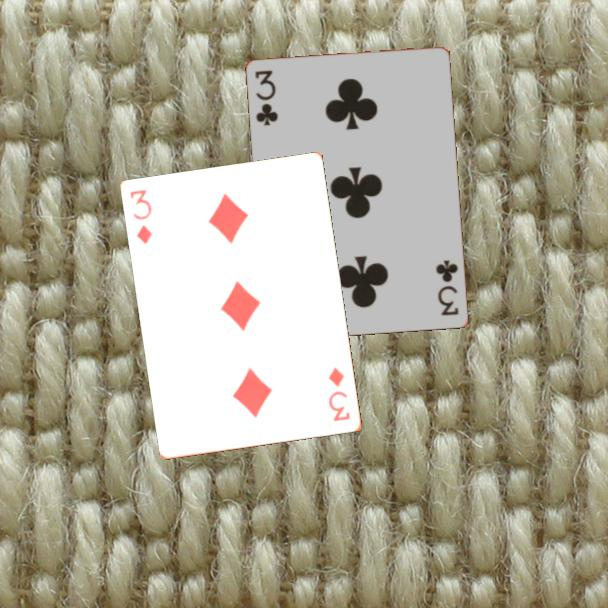c03: (433, 257, 462, 319), (252, 67, 281, 129)
d03: (127, 186, 155, 248), (325, 364, 353, 424)
